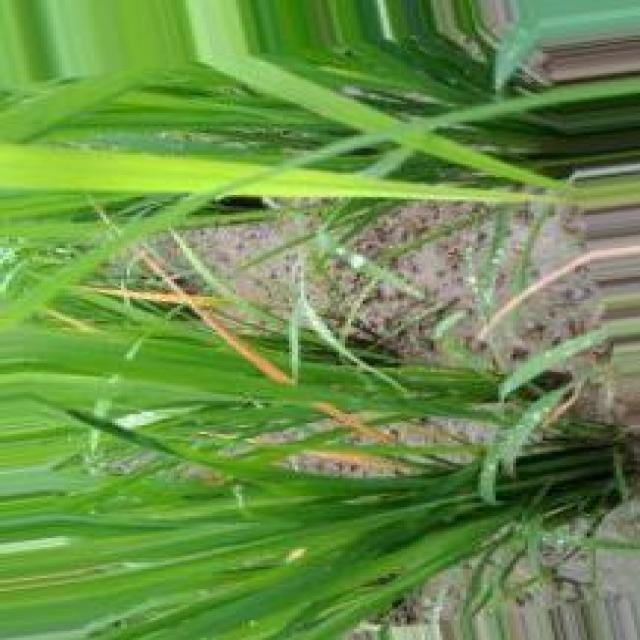Rice Tungro: (137, 248, 291, 384), (87, 287, 185, 304)
